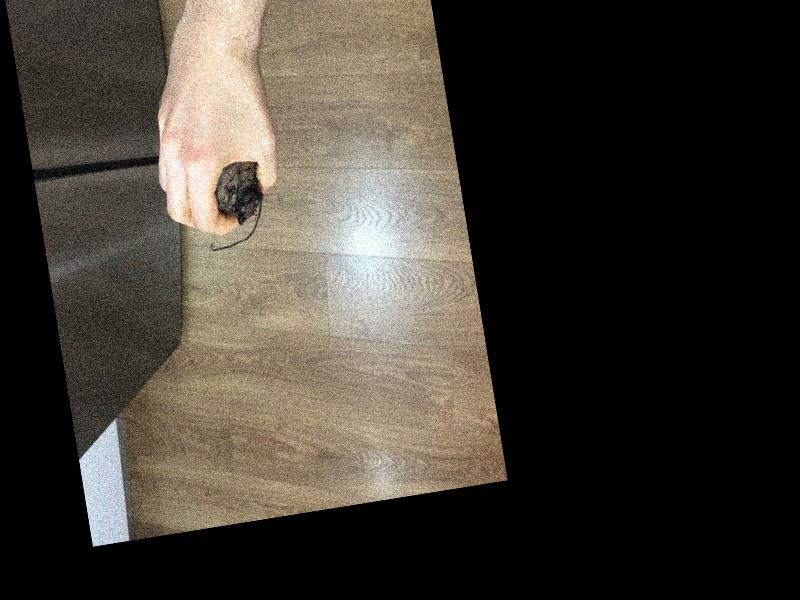Beet: (196, 159, 270, 254)
